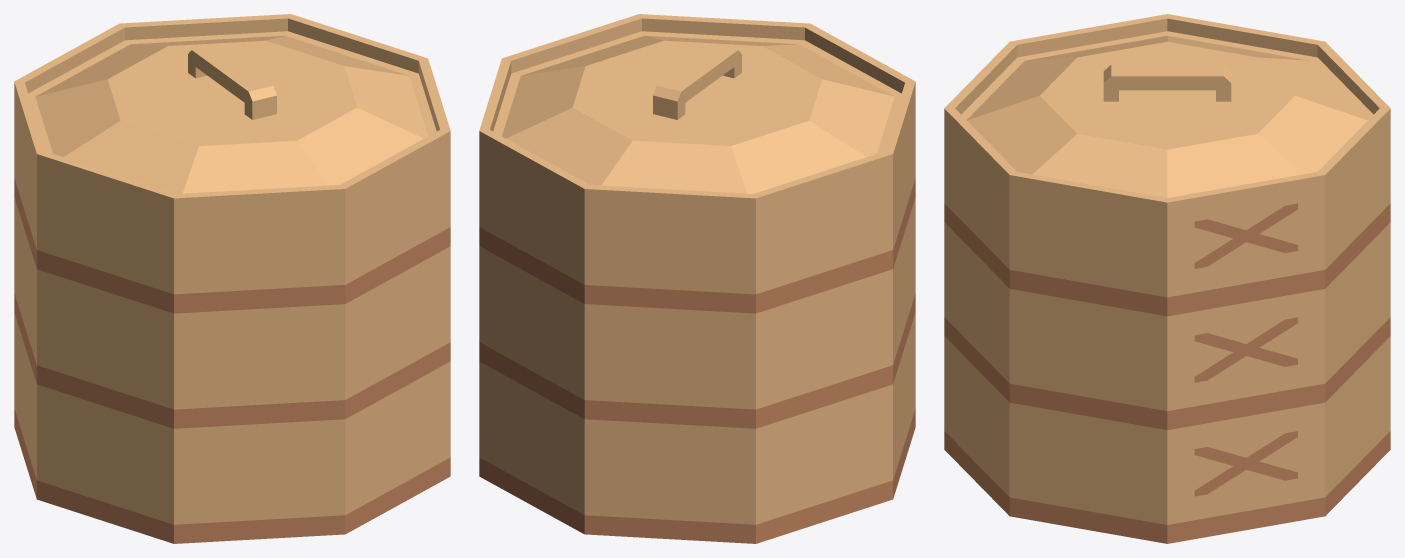
File: steamer.dae
3 renders of one model, left to right at view 1: azimuth 30°, elevation 25°; view 2: azimuth 150°, elevation 25°; view 3: azimuth 270°, elevation 25°, orthographic.
Visible parts, largest first — view 1: layer (×3), lid; view 2: layer (×3), lid; view 3: layer (×3), lid.
Boxes of the visible parts, <box> form: layer (×3): <box>14,14,450,543</box>; lid: <box>35,35,427,193</box>; layer (×3): <box>479,14,915,543</box>; lid: <box>502,35,894,193</box>; layer (×3): <box>944,14,1390,543</box>; lid: <box>967,35,1367,197</box>.
Size of the model in its own units: 0.64 by 0.6 by 0.64.
